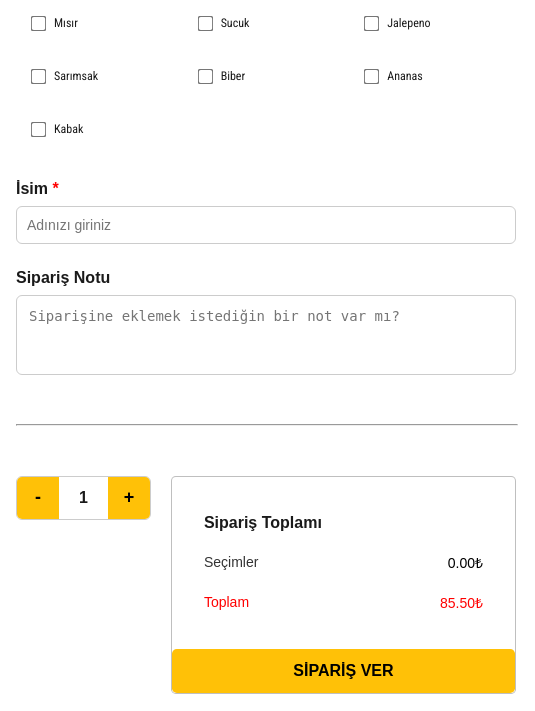
Test: Quantity Artırma-Azaltma Çalışıyor mu? › Adet butonları çalışıyor mu?
This screenshot has width=535, height=711.
(page scrolled)
Expected: the text with test id "data-piece" reads "1", [79,489,88,506]
Step 1. Click the button with test id "data-btn-increase" → coordinates (129, 498), box [108,477,150,519]
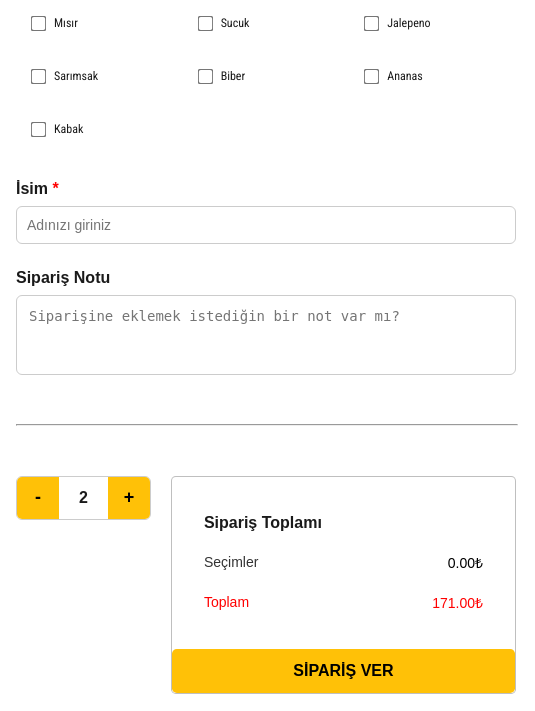
Expected: the text with test id "data-piece" reads "2", [79,489,88,506]
Step 2. Click the button with test id "data-btn-reduce" → coordinates (38, 498), box [17,477,59,519]
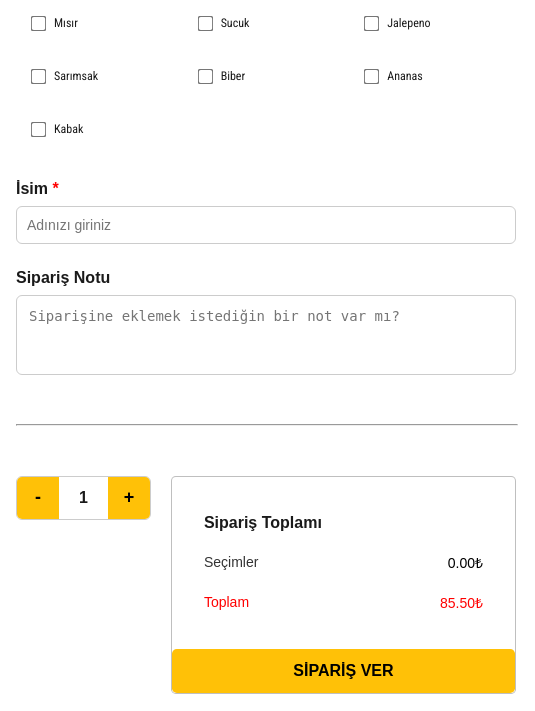
Expected: the text with test id "data-piece" reads "1", [79,489,88,506]
